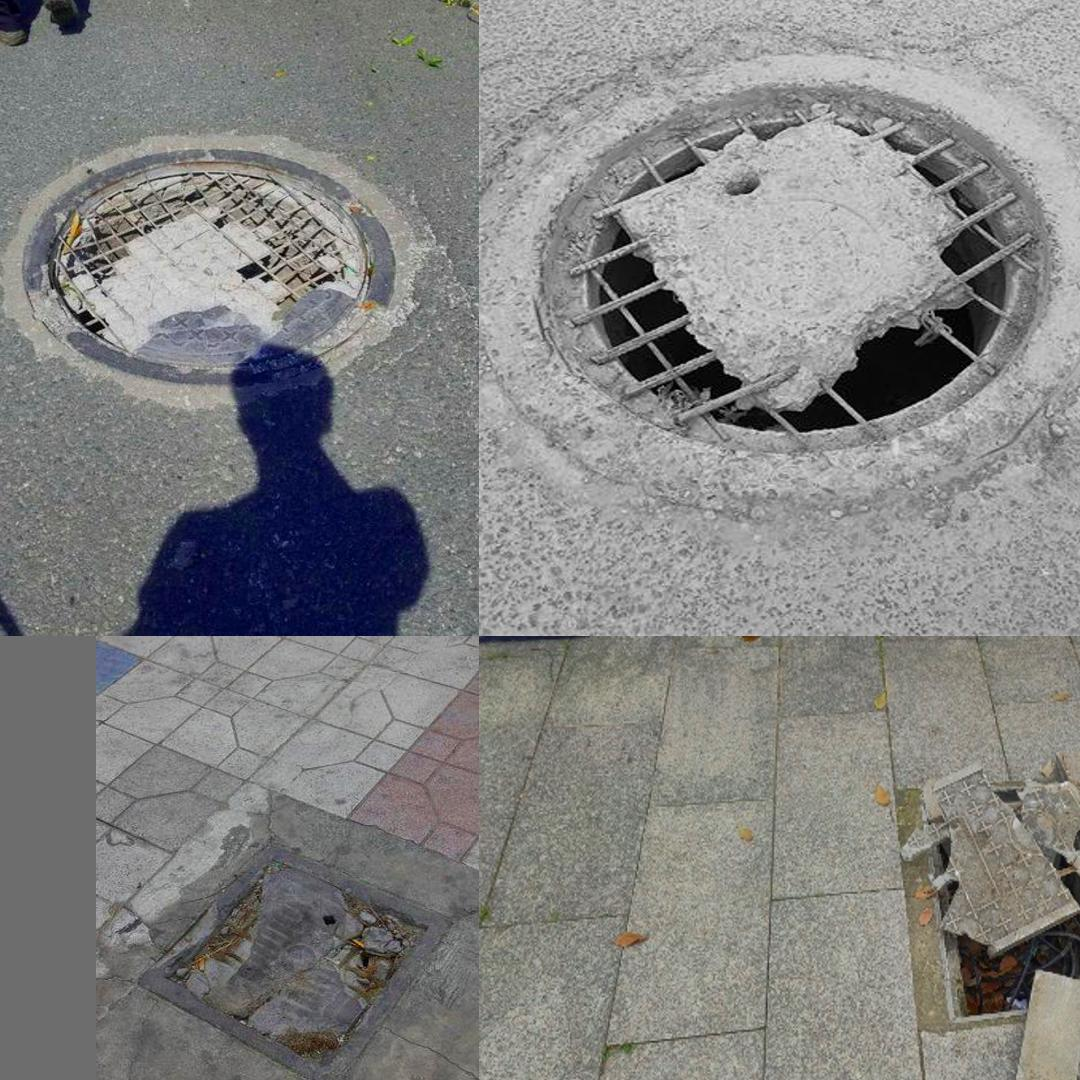broke: (507, 42, 1080, 492), (0, 130, 411, 402), (122, 835, 454, 1080), (923, 744, 1080, 1022)
